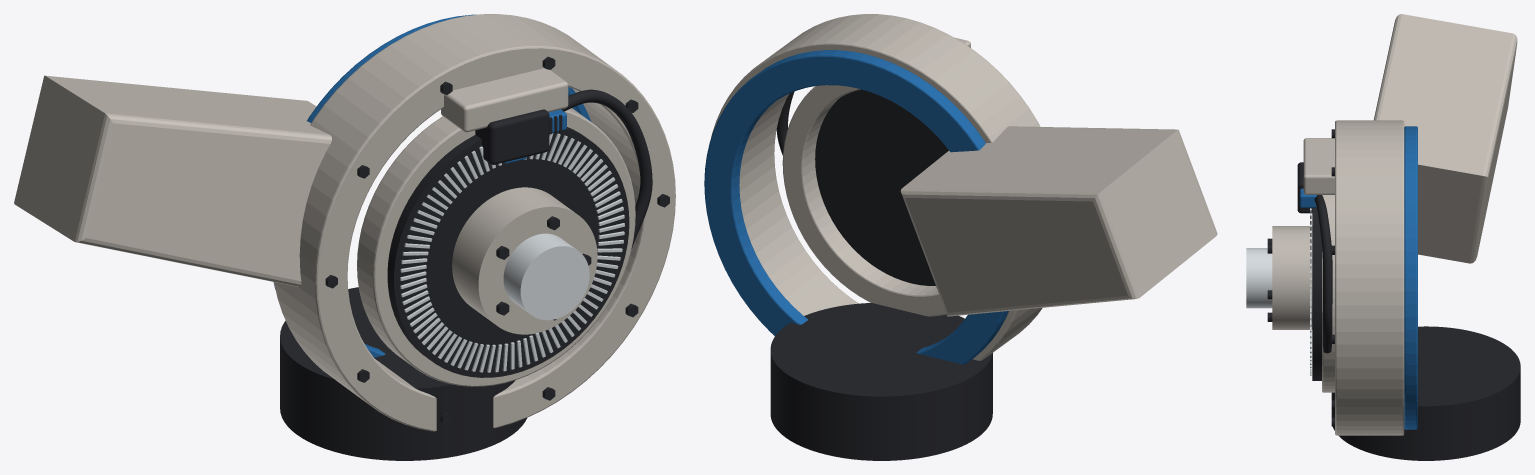
File: anatomy-41.glb
3 renders of one model, left to right at view 1: azimuth 30°, elevation 25°; view 2: azimuth 150°, elevation 25°; view 3: azimuth 270°, elevation 25°, orthographic. The views are drawn at different scales.
Parts seen in each view (by area): view 1: case, disc, shaft, bearing, marks, bracket, reader, wires; view 2: case, disc, bearing; view 3: case, shaft, bracket, disc, wires, bearing, marks, reader.
Part boxes in pixels (x1,y1,x2,y2): case: (14, 14, 675, 460); disc: (387, 127, 629, 377); shaft: (452, 187, 597, 334); bearing: (357, 108, 635, 386); marks: (400, 133, 624, 372); bracket: (441, 68, 568, 132); reader: (475, 109, 549, 164); wires: (561, 89, 652, 248); case: (704, 14, 1217, 460); disc: (815, 89, 948, 285); bearing: (782, 85, 946, 316); case: (1331, 14, 1520, 460); shaft: (1246, 226, 1312, 329); bracket: (1303, 138, 1334, 194); disc: (1312, 207, 1321, 380); wires: (1314, 195, 1332, 353); bearing: (1322, 195, 1334, 392); marks: (1310, 208, 1311, 375); reader: (1297, 162, 1312, 213).
Bounding box in the file's own units: 2.14 × 1.43 × 1.19.
